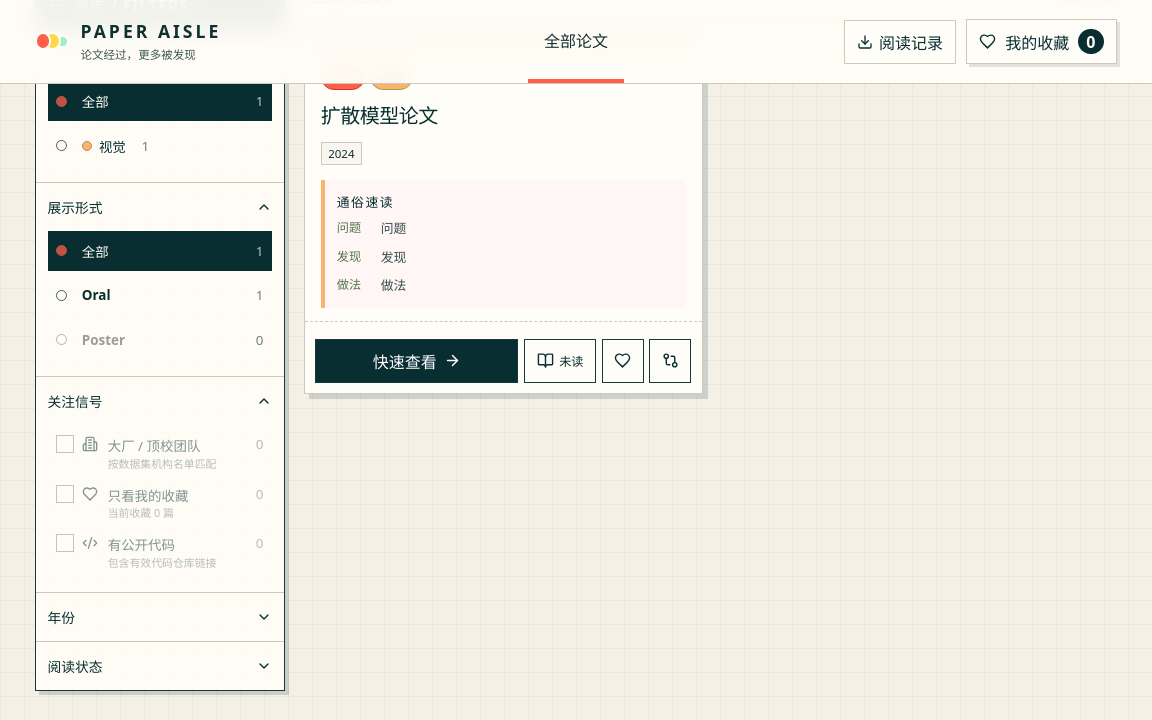
Scenario: Paper Aisle app › shows and cycles the reading status directly on a paper card
(page scrolled)
Click the button with aria-label "标记为泛读": {"x": 560, "y": 361} [524,339,596,383]
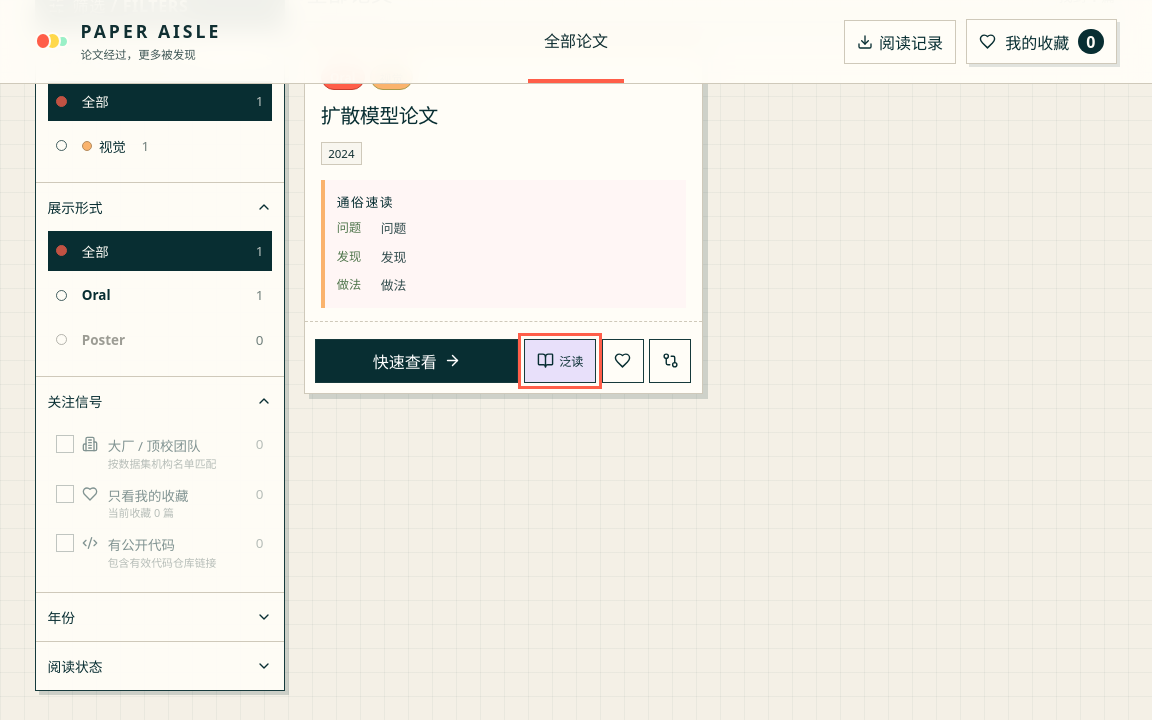
Check: the button with aria-label "标记为在读" reads "泛读"
Click the button with aria-label "标记为在读": {"x": 560, "y": 361} [524,339,596,383]
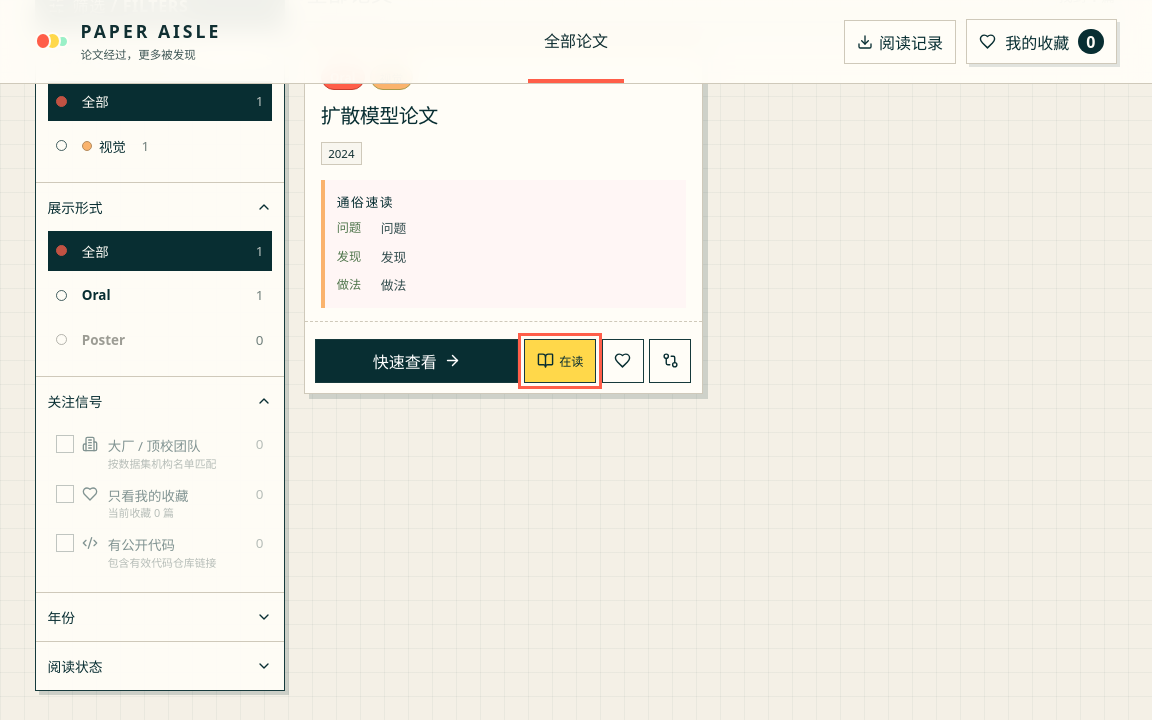
Check: the button with aria-label "标记为已读" reads "在读"
Click the button with aria-label "标记为已读": {"x": 560, "y": 361} [524,339,596,383]
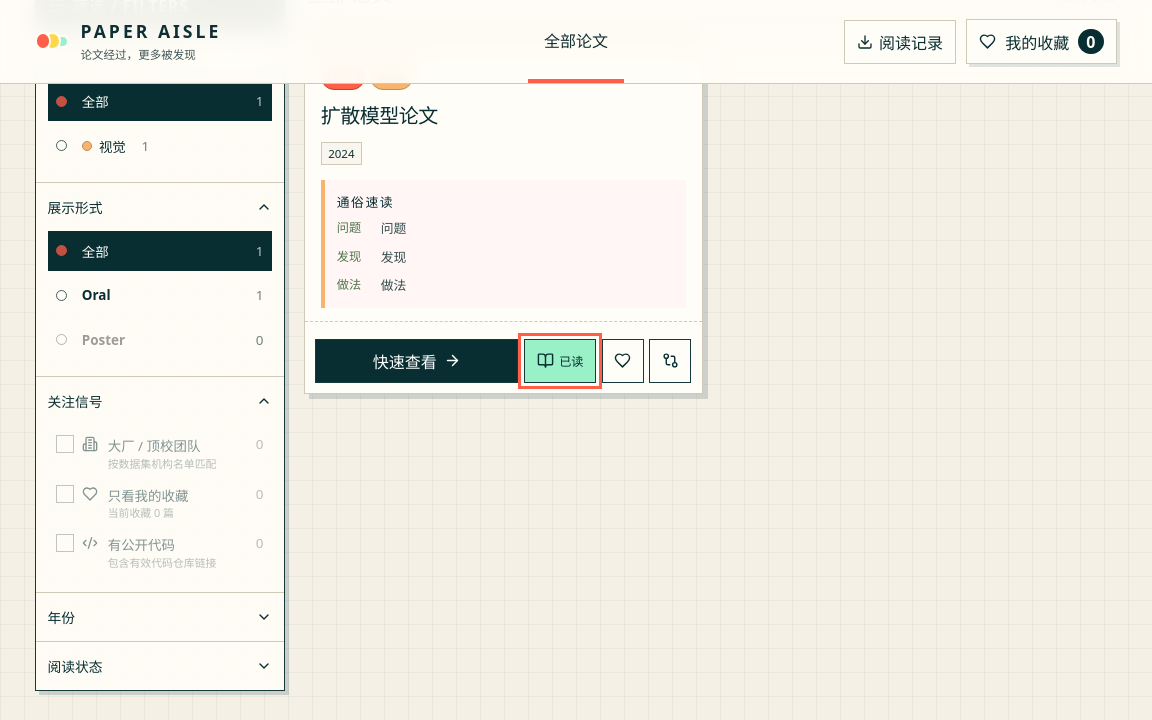
Check: the button with aria-label "标记为未读" reads "已读", box [524,339,596,383]
